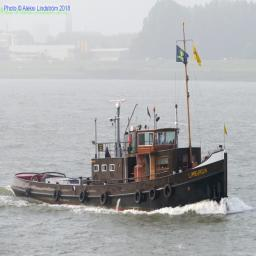tugboat: (9, 97, 231, 221)
